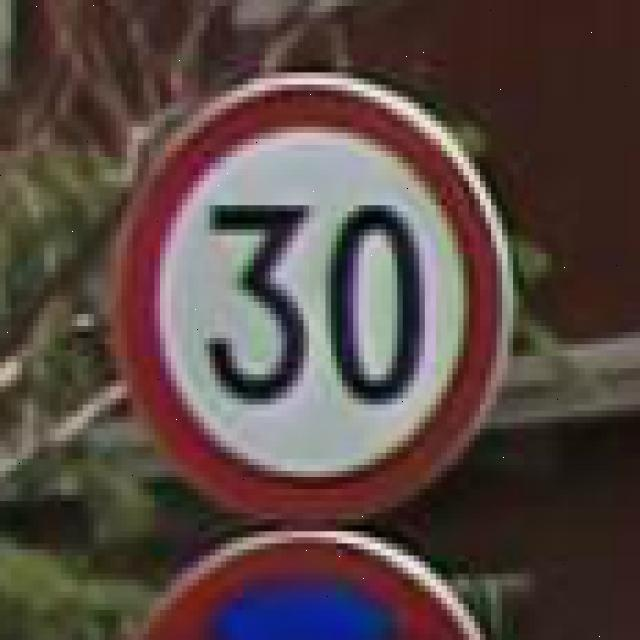speed limit 30: (112, 73, 512, 523)
